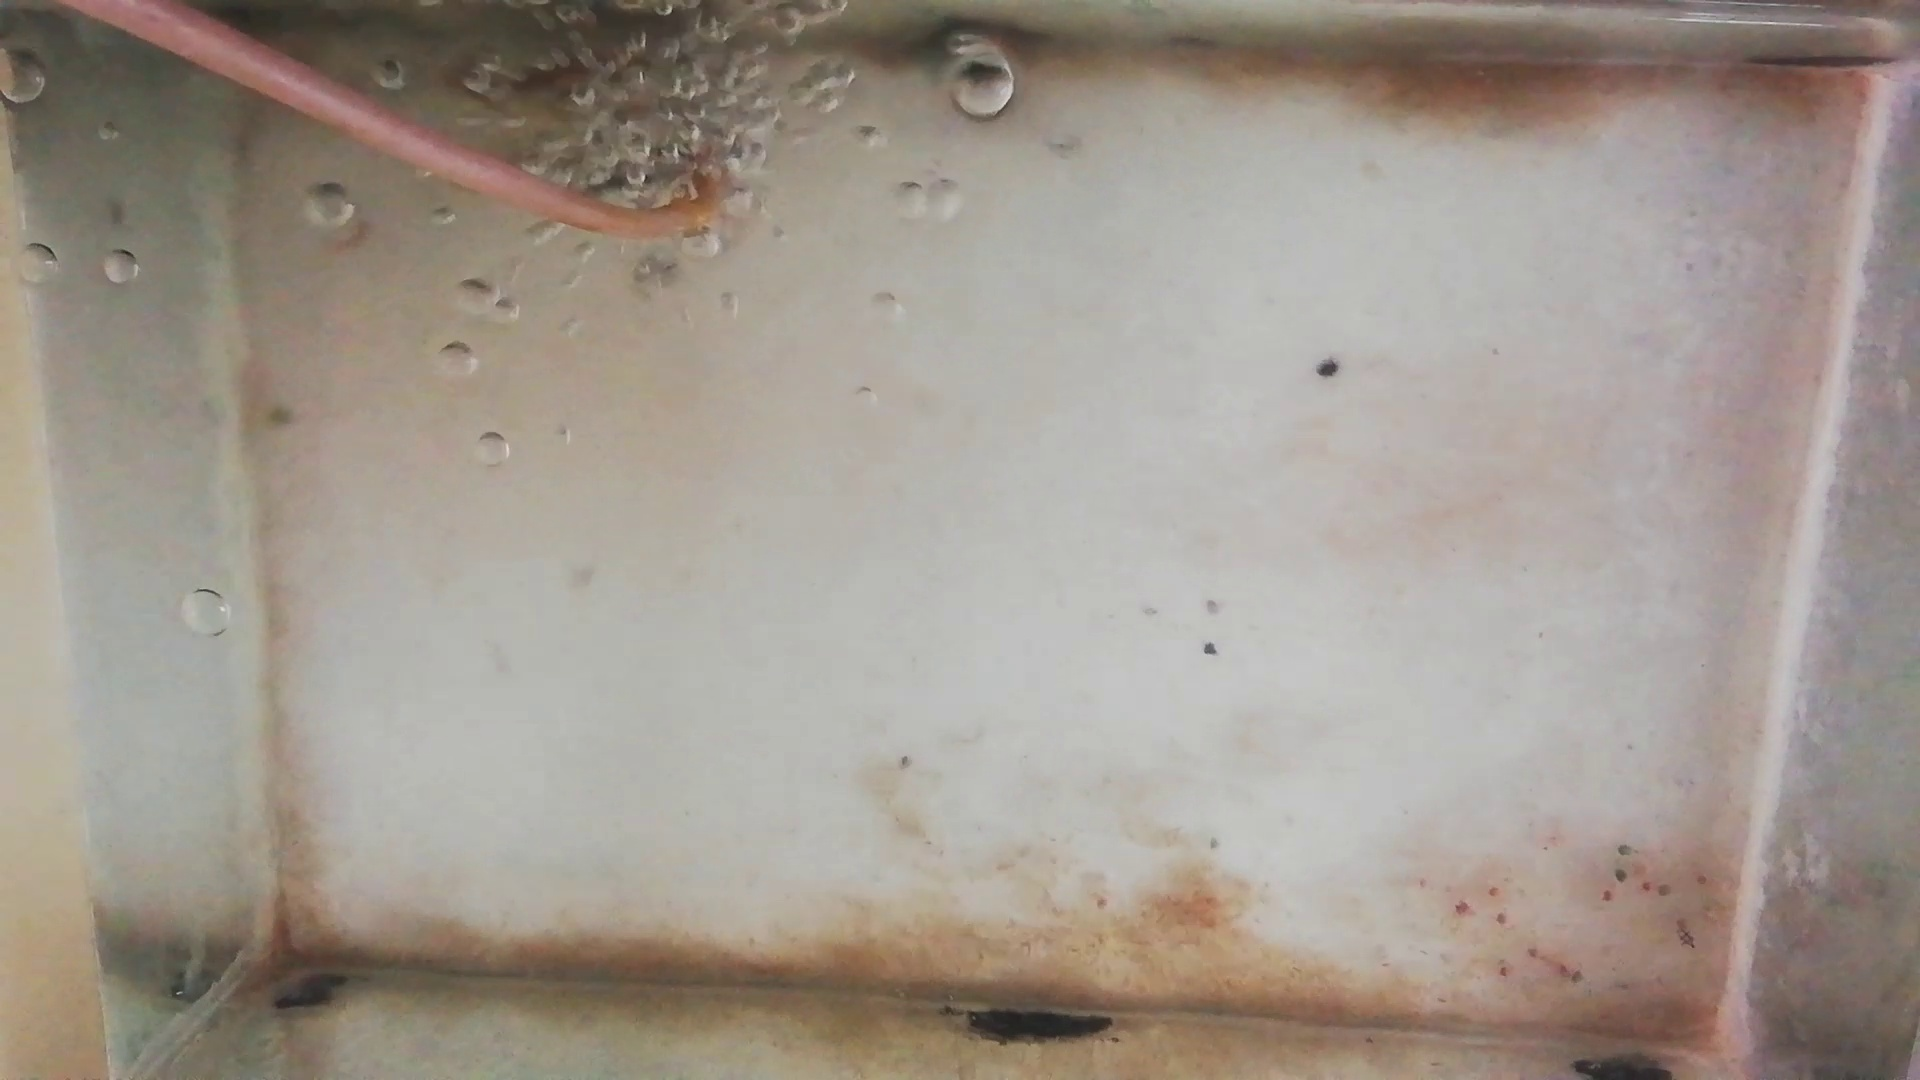fish: (456, 51, 642, 111), (553, 141, 687, 196)
